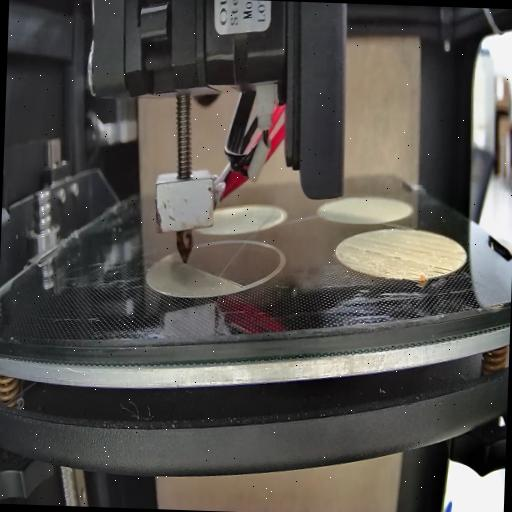under_extrusion: (344, 240, 402, 261), (424, 264, 451, 280), (452, 247, 466, 259)
